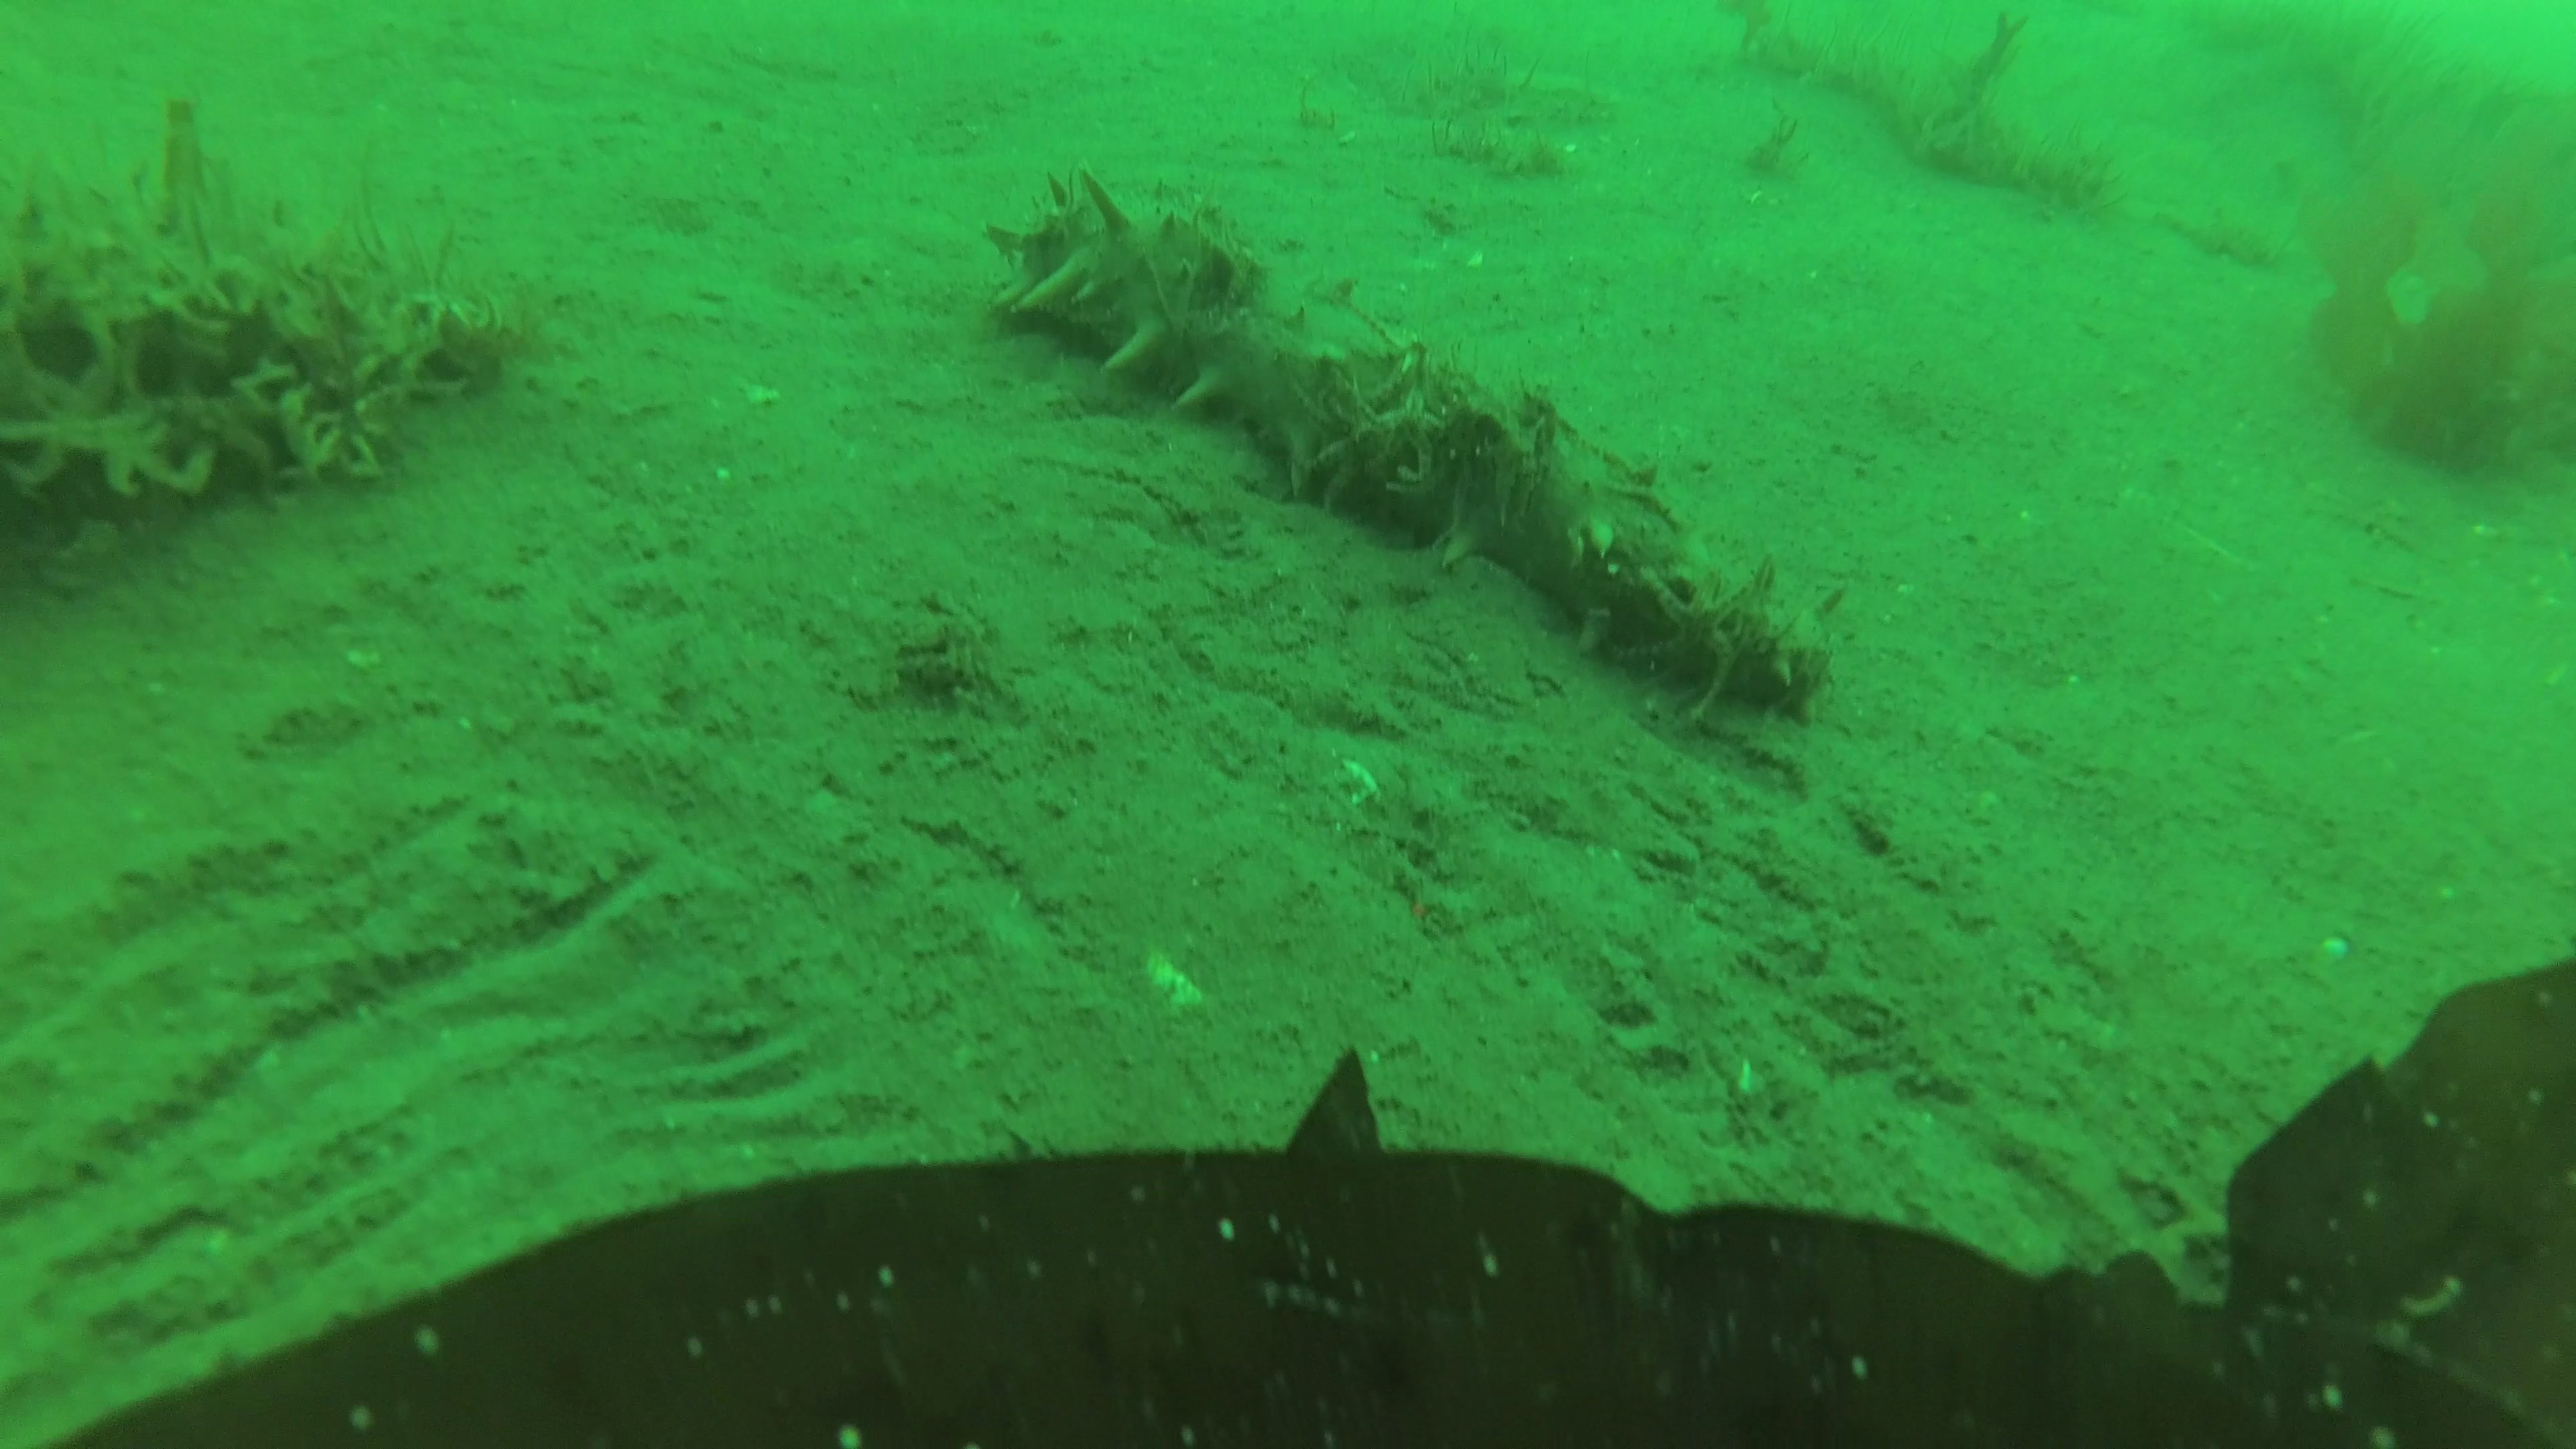holothurian: (982, 165, 1847, 729)
